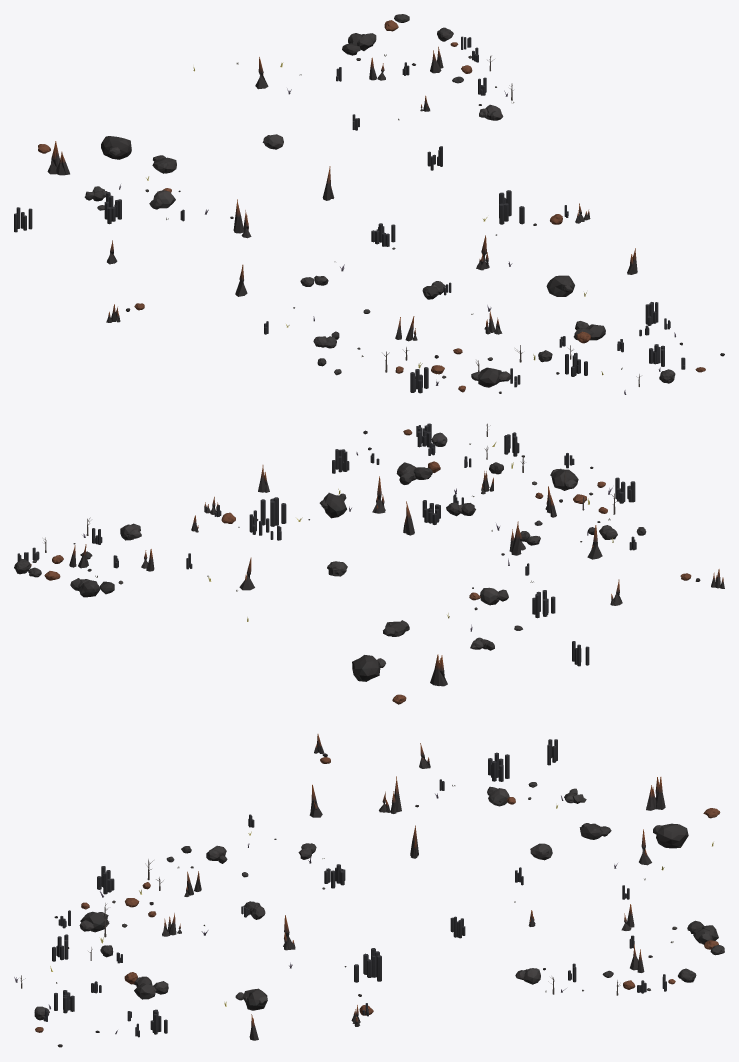
File: ash_land_scatter_c17_28.glb
3 views of the same model, one above another, from view 1: azimuth 30°, elevation 25°; view 2: azimuth 150°, elevation 25°; view 3: azimuth 270°, elevation 25° (orthographic).
Visible parts, largest first — view 1: ash_land_scatter_c17_28; view 2: ash_land_scatter_c17_28; view 3: ash_land_scatter_c17_28.
Boxes of the visible parts, x1,y1,x2,y2 form: ash_land_scatter_c17_28: (14,14,724,394); ash_land_scatter_c17_28: (14,423,724,704); ash_land_scatter_c17_28: (14,734,724,1047).
Bounding box in the file's own units: 219 × 52.35 × 249.
